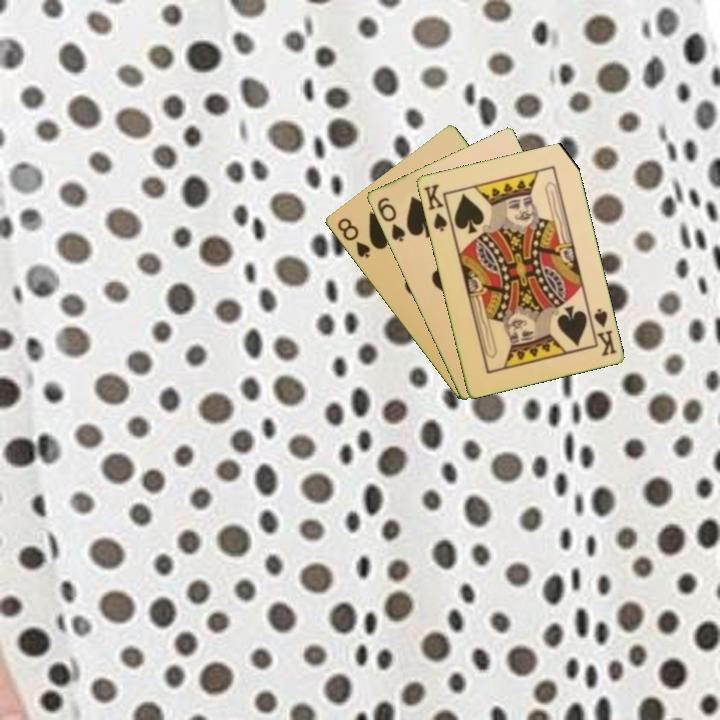6s: (373, 193, 408, 244)
8s: (333, 214, 373, 261)
Ks: (419, 180, 454, 234), (585, 304, 619, 359)
